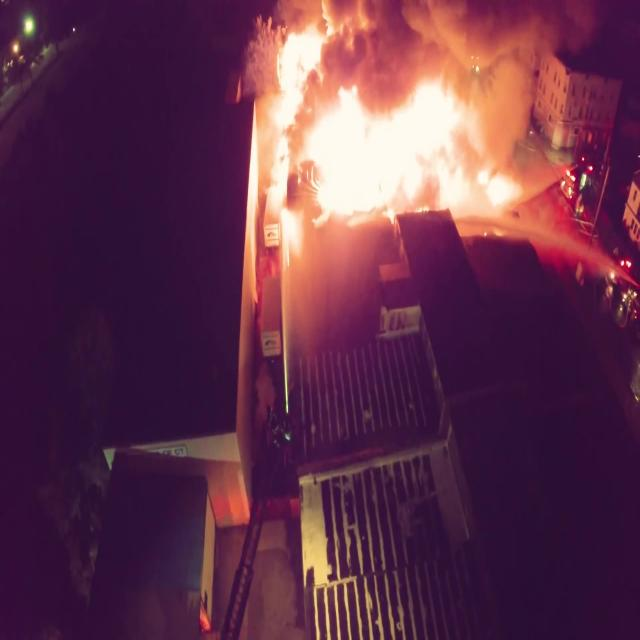Fire: (272, 33, 527, 218)
Smoke: (289, 0, 596, 141)
